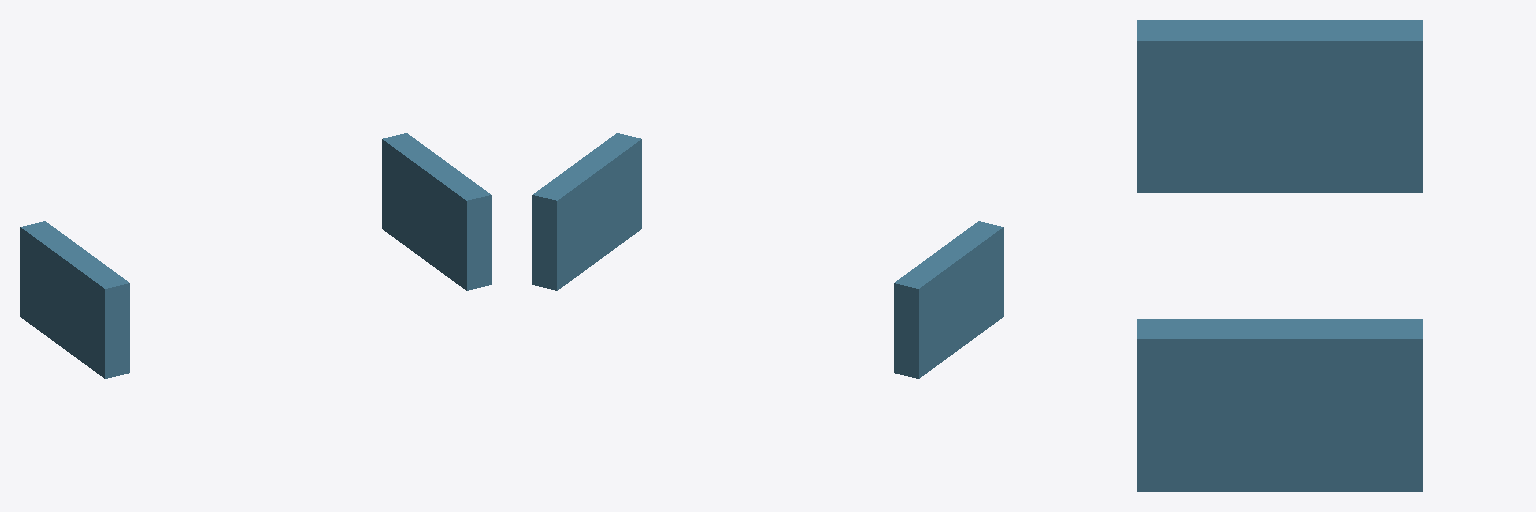
The robot description file, URDF, robot "ur5_robotiq_85":
<?xml version="1.0" ?>
<!-- =================================================================================== -->
<!-- |    This document was autogenerated by xacro from sisbot.xacro                   | -->
<!-- |    EDITING THIS FILE BY HAND IS NOT RECOMMENDED                                 | -->
<!-- =================================================================================== -->
<robot name="ur5_robotiq_85" xmlns:xacro="http://ros.org/wiki/xacro">
  <!--################################################
  ########              arm                    #######
  ####################################################-->

  <link name="base_link">
    <visual>
      <geometry>
        <mesh filename="../meshes/ur5/visual/base.obj"/>
      </geometry>
      <material name="LightGrey">
        <color rgba="0.7 0.7 0.7 1.0"/>
      </material>
    </visual>
    <collision>
      <geometry>
        <mesh filename="../meshes/ur5/collision/base.stl"/>
      </geometry>
    </collision>
    <inertial>
      <mass value="4.0"/>
      <origin rpy="0 0 0" xyz="0.0 0.0 0.0"/>
      <inertia ixx="0.00443333156" ixy="0.0" ixz="0.0" iyy="0.00443333156" iyz="0.0" izz="0.0072"/>
    </inertial>
  </link>

  <joint name="shoulder_pan_joint" type="revolute">
    <parent link="base_link"/>
    <child link="shoulder_link"/>
    <origin rpy="0.0 0.0 0.0" xyz="0.0 0.0 0.089159"/>
    <axis xyz="0 0 1"/>
    <limit effort="150.0" lower="-3.14159265359" upper="3.14159265359" velocity="3.15"/>
    <dynamics damping="0.0" friction="0.0"/>
  </joint>
  <link name="shoulder_link">
    <visual>
      <geometry>
        <mesh filename="../meshes/ur5/visual/shoulder.obj"/>
      </geometry>
      <material name="UR-Blue">
        <color rgba="0.376 0.576 0.674 1.0"/>
      </material>
    </visual>
    <collision>
      <geometry>
        <mesh filename="../meshes/ur5/collision/shoulder.stl"/>
      </geometry>
    </collision>
    <inertial>
      <mass value="3.7"/>
      <origin rpy="0 0 0" xyz="0.0 0.0 0.0"/>
      <inertia ixx="0.010267495893" ixy="0.0" ixz="0.0" iyy="0.010267495893" iyz="0.0" izz="0.00666"/>
    </inertial>
  </link>
  <joint name="shoulder_lift_joint" type="revolute">
    <parent link="shoulder_link"/>
    <child link="upper_arm_link"/>
    <origin rpy="0.0 1.57079632679 0.0" xyz="0.0 0.13585 0.0"/>
    <axis xyz="0 1 0"/>
    <limit effort="150.0" lower="-3.14159265359" upper="3.14159265359" velocity="3.15"/>
    <dynamics damping="0.0" friction="0.0"/>
  </joint>
  <link name="upper_arm_link">
    <visual>
      <geometry>
        <mesh filename="../meshes/ur5/visual/upperarm.obj"/>
      </geometry>
      <material name="LightGrey">
        <color rgba="0.7 0.7 0.7 1.0"/>
      </material>
    </visual>
    <collision>
      <geometry>
        <mesh filename="../meshes/ur5/collision/upperarm.stl"/>
      </geometry>
    </collision>
    <inertial>
      <mass value="8.393"/>
      <origin rpy="0 0 0" xyz="0.0 0.0 0.28"/>
      <inertia ixx="0.22689067591" ixy="0.0" ixz="0.0" iyy="0.22689067591" iyz="0.0" izz="0.0151074"/>
    </inertial>
  </link>
  <joint name="elbow_joint" type="revolute">
    <parent link="upper_arm_link"/>
    <child link="forearm_link"/>
    <origin rpy="0.0 0.0 0.0" xyz="0.0 -0.1197 0.425"/>
    <axis xyz="0 1 0"/>
    <limit effort="150.0" lower="-3.14159265359" upper="3.14159265359" velocity="3.15"/>
    <dynamics damping="0.0" friction="0.0"/>
  </joint>
  <link name="forearm_link">
    <visual>
      <geometry>
        <mesh filename="../meshes/ur5/visual/forearm.obj"/>
      </geometry>
      <material name="LightGrey">
        <color rgba="0.7 0.7 0.7 1.0"/>
      </material>
    </visual>
    <collision>
      <geometry>
        <mesh filename="../meshes/ur5/collision/forearm.stl"/>
      </geometry>
    </collision>
    <inertial>
      <mass value="2.275"/>
      <origin rpy="0 0 0" xyz="0.0 0.0 0.25"/>
      <inertia ixx="0.049443313556" ixy="0.0" ixz="0.0" iyy="0.049443313556" iyz="0.0" izz="0.004095"/>
    </inertial>
  </link>
  <joint name="wrist_1_joint" type="revolute">
    <parent link="forearm_link"/>
    <child link="wrist_1_link"/>
    <origin rpy="0.0 1.57079632679 0.0" xyz="0.0 0.0 0.39225"/>
    <axis xyz="0 1 0"/>
    <limit effort="28.0" lower="-3.14159265359" upper="3.14159265359" velocity="3.2"/>
    <dynamics damping="0.0" friction="0.0"/>
  </joint>
  <link name="wrist_1_link">
    <visual>
      <geometry>
        <mesh filename="../meshes/ur5/visual/wrist1.obj"/>
      </geometry>
      <material name="UR-Blue">
        <color rgba="0.376 0.576 0.674 1.0"/>
      </material>
    </visual>
    <collision>
      <geometry>
        <mesh filename="../meshes/ur5/collision/wrist1.stl"/>
      </geometry>
    </collision>
    <inertial>
      <mass value="1.219"/>
      <origin rpy="0 0 0" xyz="0.0 0.0 0.0"/>
      <inertia ixx="0.111172755531" ixy="0.0" ixz="0.0" iyy="0.111172755531" iyz="0.0" izz="0.21942"/>
    </inertial>
  </link>
  <joint name="wrist_2_joint" type="revolute">
    <parent link="wrist_1_link"/>
    <child link="wrist_2_link"/>
    <origin rpy="0.0 0.0 0.0" xyz="0.0 0.093 0.0"/>
    <axis xyz="0 0 1"/>
    <limit effort="28.0" lower="-3.14159265359" upper="3.14159265359" velocity="3.2"/>
    <dynamics damping="0.0" friction="0.0"/>
  </joint>
  <link name="wrist_2_link">
    <visual>
      <geometry>
        <mesh filename="../meshes/ur5/visual/wrist2.obj"/>
      </geometry>
      <material name="DarkGray">
        <color rgba="0.5 0.5 0.5 1.0"/>
      </material>
    </visual>
    <collision>
      <geometry>
        <mesh filename="../meshes/ur5/collision/wrist2.stl"/>
      </geometry>
    </collision>
    <inertial>
      <mass value="1.219"/>
      <origin rpy="0 0 0" xyz="0.0 0.0 0.0"/>
      <inertia ixx="0.111172755531" ixy="0.0" ixz="0.0" iyy="0.111172755531" iyz="0.0" izz="0.21942"/>
    </inertial>
  </link>
  <joint name="wrist_3_joint" type="revolute">
    <parent link="wrist_2_link"/>
    <child link="wrist_3_link"/>
    <origin rpy="0.0 0.0 0.0" xyz="0.0 0.0 0.09465"/>
    <axis xyz="0 1 0"/>
    <limit effort="28.0" lower="-3.14159265359" upper="3.14159265359" velocity="3.2"/>
    <dynamics damping="0.0" friction="0.0"/>
  </joint>
  <link name="wrist_3_link">
    <visual>
      <geometry>
        <mesh filename="../meshes/ur5/visual/wrist3.obj"/>
      </geometry>
      <material name="LightGrey">
        <color rgba="0.7 0.7 0.7 1.0"/>
      </material>
    </visual>
    <collision>
      <geometry>
        <mesh filename="../meshes/ur5/collision/wrist3.stl"/>
      </geometry>
    </collision>
    <inertial>
      <mass value="0.1879"/>
      <origin rpy="0 0 0" xyz="0.0 0.0 0.0"/>
      <inertia ixx="0.0171364731454" ixy="0.0" ixz="0.0" iyy="0.0171364731454" iyz="0.0" izz="0.033822"/>
    </inertial>
  </link>
  <joint name="ee_fixed_joint" type="fixed">
    <parent link="wrist_3_link"/>
    <child link="ee_link"/>
    <origin rpy="0.0 0.0 1.57079632679" xyz="0.0 0.0823 0.0"/>
  </joint>
  <link name="ee_link">
    <collision>
      <geometry>
        <box size="0.01 0.01 0.01"/>
      </geometry>
      <origin rpy="0 0 0" xyz="-0.01 0 0"/>
    </collision>
  </link>

  <!--################################################
  ########              gripper                  #####
  ####################################################-->

  <link name="robotiq_arg2f_base_link">
    <inertial>
      <origin rpy="0 0 0" xyz="8.625E-08 -4.6583E-06 0.03145"/>
      <mass value="0.22652"/>
      <inertia ixx="0.00020005" ixy="-4.2442E-10" ixz="-2.9069E-10" iyy="0.00017832" iyz="-3.4402E-08" izz="0.00013478"/>
    </inertial>
    <visual>
      <origin rpy="0 0 0" xyz="0 0 0"/>
      <geometry>
        <mesh filename="../meshes/robotiq_85/visual/robotiq_arg2f_85_base_link.dae" scale="0.001 0.001 0.001"/>
      </geometry>
      <material name="LightGrey">
        <color rgba="0.7 0.7 0.7 1.0"/>
      </material>
    </visual>
    <collision>
      <origin rpy="0 0 0" xyz="0 0 0"/>
      <geometry>
        <mesh filename="../meshes/robotiq_85/collision/robotiq_arg2f_base_link.stl"/>
      </geometry>
    </collision>
  </link>
  <joint name="finger_joint" type="revolute">
    <origin rpy="0 0 3.14159265359" xyz="0 -0.0306011 0.054904"/>
    <parent link="robotiq_arg2f_base_link"/>
    <child link="left_outer_knuckle"/>
    <axis xyz="1 0 0"/>
    <limit effort="1000" lower="0" upper="0.8" velocity="2.0"/>
  </joint>
  <link name="left_outer_knuckle">
    <inertial>
        <origin xyz="-0.000200000000003065 0.0199435877845359 0.0292245259211331" rpy="0 0 0" />
        <mass value="0.00853198276973456" />
        <inertia ixx="2.89328108496468E-06" ixy="-1.57935047237397E-19" ixz="-1.93980378593255E-19" iyy="1.86719750325683E-06" iyz="-1.21858577871576E-06" izz="1.21905238907251E-06" />
        </inertial>
    <visual>
      <origin rpy="0 0 0" xyz="0 0 0"/>
      <geometry>
        <mesh filename="../meshes/robotiq_85/visual/robotiq_arg2f_85_outer_knuckle.dae" scale="0.001 0.001 0.001"/>
      </geometry>
      <material name="">
        <color rgba="1 1 0 1"/>
      </material>
    </visual>
    <collision>
      <origin rpy="0 0 0" xyz="0 0 0"/>
      <geometry>
        <mesh filename="../meshes/robotiq_85/collision/robotiq_arg2f_85_outer_knuckle.dae" scale="0.001 0.001 0.001"/>
      </geometry>
    </collision>
  </link>
  <joint name="left_outer_finger_joint" type="fixed">
    <origin rpy="0 0 0" xyz="0 0.0315 -0.0041"/>
    <parent link="left_outer_knuckle"/>
    <child link="left_outer_finger"/>
    <axis xyz="1 0 0"/>
  </joint>
  <link name="left_outer_finger">
    <inertial>
        <origin xyz="0.00030115855001899 0.0373907951953854 -0.0208027427000385" rpy="0 0 0" />
        <mass value="0.022614240507152" />
        <inertia ixx="1.52518312458174E-05" ixy="9.76583423954399E-10" ixz="-5.43838577022588E-10" iyy="6.17694243867776E-06" iyz="6.78636130740228E-06" izz="1.16494917907219E-05" />
        </inertial>
    <visual>
      <origin rpy="0 0 0" xyz="0 0 0"/>
      <geometry>
        <mesh filename="../meshes/robotiq_85/visual/robotiq_arg2f_85_outer_finger.dae" scale="0.001 0.001 0.001"/>
      </geometry>
      <material name="LightGrey">
        <color rgba="0 1 1 1.0"/>
      </material>
    </visual>
    <collision>
      <origin rpy="0 0 0" xyz="0 0 0"/>
      <geometry>
        <mesh filename="../meshes/robotiq_85/collision/robotiq_arg2f_85_outer_finger.dae" scale="0.001 0.001 0.001"/>
      </geometry>
    </collision>
  </link>
  <joint name="left_inner_finger_joint" type="revolute">
    <origin rpy="0 0 0" xyz="0 0.0061 0.0471"/>
    <parent link="left_outer_finger"/>
    <child link="left_inner_finger"/>
    <axis xyz="1 0 0"/>
    <limit effort="1000" lower="-0.8757" upper="0" velocity="2.0"/>
    <mimic joint="finger_joint" multiplier="-1" offset="0"/>
  </joint>
  <link name="left_inner_finger">
    <inertial>
        <origin xyz="0.000299999999999317 0.0160078233491243 -0.0136945669206257" rpy="0 0 0" />
        <mass value="0.0104003125914103" />
        <inertia ixx="2.71909453810972E-06" ixy="1.35402465472579E-21" ixz="-7.1817349065269E-22" iyy="7.69100314106116E-07" iyz="6.74715432769696E-07" izz="2.30315190420171E-06" />
        </inertial>
    <visual>
      <origin rpy="0 0 0" xyz="0 0 0"/>
      <geometry>
        <mesh filename="../meshes/robotiq_85/visual/robotiq_arg2f_85_inner_finger.dae" scale="0.001 0.001 0.001"/>
      </geometry>
      <material name="LightGrey">
        <color rgba="1 0 1 1.0"/>
      </material>
    </visual>
    <collision>
      <origin rpy="0 0 0" xyz="0 0 0"/>
      <geometry>
        <mesh filename="../meshes/robotiq_85/collision/robotiq_arg2f_85_inner_finger.dae" scale="0.001 0.001 0.001"/>
      </geometry>
    </collision>
  </link>
  <joint name="left_inner_finger_pad_joint" type="fixed">
    <origin rpy="0 0 0" xyz="0 -0.0220203446692936 0.03242"/>
    <parent link="left_inner_finger"/>
    <child link="left_inner_finger_pad"/>
    <axis xyz="0 0 1"/>
  </joint>
  <link name="left_inner_finger_pad">
    <inertial>
      <mass value="1."/>
      <inertia ixx="1E-10" ixy="1E-10" ixz="1E-10" iyy="1E-10" iyz="1E-10" izz="1E-10"/>
    </inertial>
    <contact>
      <friction_anchor/>
      <stiffness value="30000.0"/>
      <damping value="1000.0"/>
      <spinning_friction value="0.1"/>
      <lateral_friction value="1.0"/>
    </contact>
    <visual>
      <origin rpy="0 0 0" xyz="0 0 0"/>
      <geometry>
        <box size="0.022 0.00635 0.0375"/>
      </geometry>
      <material name="UR-Blue">
        <color rgba="0.376 0.576 0.674 1.0"/>
      </material>
    </visual>
    <collision>
      <origin rpy="0 0 0" xyz="0 0 0"/>
      <geometry>
        <box size="0.022 0.00635 0.0375"/>
      </geometry>
      <material name="">
        <color rgba="0.9 0.0 0.0 1"/>
      </material>
    </collision>
  </link>
  <joint name="left_inner_knuckle_joint" type="revolute">
    <!-- <origin xyz="0 ${reflect * -0.0127} 0.06142" rpy="${pi / 2 + .725} 0 ${(reflect - 1) * pi / 2}" /> -->
    <origin rpy="0 0 3.14159265359" xyz="0 -0.0127 0.06142"/>
    <parent link="robotiq_arg2f_base_link"/>
    <child link="left_inner_knuckle"/>
    <axis xyz="1 0 0"/>
    <limit effort="1000" lower="0" upper="0.8757" velocity="2.0"/>
    <mimic joint="finger_joint" multiplier="1" offset="0"/>
  </joint>
  <link name="left_inner_knuckle">
    <inertial>
        <origin xyz="0.000123011831763771 0.0507850843201817 0.00103968640075166" rpy="0 0 0" />
       <mass value="0.0271177346495152" />
        <inertia ixx="2.61910379223783E-05" ixy="-2.43616858946494E-07" ixz="-6.37789906117123E-09" iyy="2.8270243746167E-06" iyz="-5.37200748039765E-07" izz="2.83695868220296E-05" />
        </inertial>
    <visual>
      <origin rpy="0 0 0" xyz="0 0 0"/>
      <geometry>
        <mesh filename="../meshes/robotiq_85/visual/robotiq_arg2f_85_inner_knuckle.dae" scale="0.001 0.001 0.001"/>
      </geometry>
      <material name="LightGrey">
        <color rgba="0 0 1 1.0"/>
      </material>
    </visual>
    <collision>
      <origin rpy="0 0 0" xyz="0 0 0"/>
      <geometry>
        <mesh filename="../meshes/robotiq_85/collision/robotiq_arg2f_85_inner_knuckle.dae" scale="0.001 0.001 0.001"/>
      </geometry>
    </collision>
  </link>
  <joint name="right_outer_knuckle_joint" type="revolute">
    <origin rpy="0 0 0" xyz="0 0.0306011 0.054904"/>
    <parent link="robotiq_arg2f_base_link"/>
    <child link="right_outer_knuckle"/>
    <axis xyz="1 0 0"/>
    <limit effort="1000" lower="0" upper="0.81" velocity="2.0"/>
    <mimic joint="finger_joint" multiplier="1" offset="0"/>
  </joint>
  <link name="right_outer_knuckle">
    <inertial>
        <origin xyz="-0.000200000000003065 0.0199435877845359 0.0292245259211331" rpy="0 0 0" />
        <mass value="0.00853198276973456" />
        <inertia ixx="2.89328108496468E-06" ixy="-1.57935047237397E-19" ixz="-1.93980378593255E-19" iyy="1.86719750325683E-06" iyz="-1.21858577871576E-06" izz="1.21905238907251E-06" />
        </inertial>
    <visual>
      <origin rpy="0 0 0" xyz="0 0 0"/>
      <geometry>
        <mesh filename="../meshes/robotiq_85/visual/robotiq_arg2f_85_outer_knuckle.dae" scale="0.001 0.001 0.001"/>
      </geometry>
      <material name="">
        <color rgba="0.792156862745098 0.819607843137255 0.933333333333333 1"/>
      </material>
    </visual>
    <collision>
      <origin rpy="0 0 0" xyz="0 0 0"/>
      <geometry>
        <mesh filename="../meshes/robotiq_85/collision/robotiq_arg2f_85_outer_knuckle.dae" scale="0.001 0.001 0.001"/>
      </geometry>
    </collision>
  </link>
  <joint name="right_outer_finger_joint" type="fixed">
    <origin rpy="0 0 0" xyz="0 0.0315 -0.0041"/>
    <parent link="right_outer_knuckle"/>
    <child link="right_outer_finger"/>
    <axis xyz="1 0 0"/>
  </joint>
  <link name="right_outer_finger">
    <inertial>
        <origin xyz="0.00030115855001899 0.0373907951953854 -0.0208027427000385" rpy="0 0 0" />
        <mass value="0.022614240507152" />
        <inertia ixx="1.52518312458174E-05" ixy="9.76583423954399E-10" ixz="-5.43838577022588E-10" iyy="6.17694243867776E-06" iyz="6.78636130740228E-06" izz="1.16494917907219E-05" />
        </inertial>
    <visual>
      <origin rpy="0 0 0" xyz="0 0 0"/>
      <geometry>
        <mesh filename="../meshes/robotiq_85/visual/robotiq_arg2f_85_outer_finger.dae" scale="0.001 0.001 0.001"/>
      </geometry>
      <material name="LightGrey">
        <color rgba="0.7 0.7 0.7 1.0"/>
      </material>
    </visual>
    <collision>
      <origin rpy="0 0 0" xyz="0 0 0"/>
      <geometry>
        <mesh filename="../meshes/robotiq_85/collision/robotiq_arg2f_85_outer_finger.dae" scale="0.001 0.001 0.001"/>
      </geometry>
    </collision>
  </link>
  <joint name="right_inner_finger_joint" type="revolute">
    <origin rpy="0 0 0" xyz="0 0.0061 0.0471"/>
    <parent link="right_outer_finger"/>
    <child link="right_inner_finger"/>
    <axis xyz="1 0 0"/>
    <limit effort="1000" lower="-0.8757" upper="0" velocity="2.0"/>
    <mimic joint="finger_joint" multiplier="-1" offset="0"/>
  </joint>
  <link name="right_inner_finger">
    <inertial>
        <origin xyz="0.000299999999999317 0.0160078233491243 -0.0136945669206257" rpy="0 0 0" />
        <mass value="0.0104003125914103" />
        <inertia ixx="2.71909453810972E-06" ixy="1.35402465472579E-21" ixz="-7.1817349065269E-22" iyy="7.69100314106116E-07" iyz="6.74715432769696E-07" izz="2.30315190420171E-06" />
        </inertial>
    <visual>
      <origin rpy="0 0 0" xyz="0 0 0"/>
      <geometry>
        <mesh filename="../meshes/robotiq_85/visual/robotiq_arg2f_85_inner_finger.dae" scale="0.001 0.001 0.001"/>
      </geometry>
      <material name="">
        <color rgba="0.1 0.1 0.1 1"/>
      </material>
    </visual>
    <collision>
      <origin rpy="0 0 0" xyz="0 0 0"/>
      <geometry>
        <mesh filename="../meshes/robotiq_85/collision/robotiq_arg2f_85_inner_finger.dae" scale="0.001 0.001 0.001"/>
      </geometry>
    </collision>
  </link>
  <joint name="right_inner_finger_pad_joint" type="fixed">
    <origin rpy="0 0 0" xyz="0 -0.0220203446692936 0.03242"/>
    <parent link="right_inner_finger"/>
    <child link="right_inner_finger_pad"/>
    <axis xyz="0 0 1"/>
  </joint>
  <link name="right_inner_finger_pad">
    <inertial>
      <mass value="1"/>
      <inertia ixx="1E-10" ixy="1E-10" ixz="1E-10" iyy="1E-10" iyz="1E-10" izz="1E-10"/>
    </inertial>
    <contact>
      <friction_anchor/>
      <stiffness value="30000.0"/>
      <damping value="1000.0"/>
      <spinning_friction value="0.1"/>
      <lateral_friction value="1.0"/>
    </contact>
    <visual>
      <origin rpy="0 0 0" xyz="0 0 0"/>
      <geometry>
        <box size="0.022 0.00635 0.0375"/>
      </geometry>
      <material name="UR-Blue">
        <color rgba="0.376 0.576 0.674 1.0"/>
      </material>
    </visual>
    <collision>
      <origin rpy="0 0 0" xyz="0 0 0"/>
      <geometry>
        <box size="0.022 0.00635 0.0375"/>
      </geometry>
      <material name="LightGrey">
        <color rgba="0.7 0.7 0.7 1.0"/>
      </material>
    </collision>
  </link>
  <joint name="right_inner_knuckle_joint" type="revolute">
    <!-- <origin xyz="0 ${reflect * -0.0127} 0.06142" rpy="${pi / 2 + .725} 0 ${(reflect - 1) * pi / 2}" /> -->
    <origin rpy="0 0 0.0" xyz="0 0.0127 0.06142"/>
    <parent link="robotiq_arg2f_base_link"/>
    <child link="right_inner_knuckle"/>
    <axis xyz="1 0 0"/>
    <limit effort="1000" lower="0" upper="0.8757" velocity="2.0"/>
    <mimic joint="finger_joint" multiplier="1" offset="0"/>
  </joint>
  <link name="right_inner_knuckle">
    <inertial>
        <origin xyz="0.000123011831763771 0.0507850843201817 0.00103968640075166" rpy="0 0 0" />
       <mass value="0.0271177346495152" />
        <inertia ixx="2.61910379223783E-05" ixy="-2.43616858946494E-07" ixz="-6.37789906117123E-09" iyy="2.8270243746167E-06" iyz="-5.37200748039765E-07" izz="2.83695868220296E-05" />
        </inertial>
    <visual>
      <origin rpy="0 0 0" xyz="0 0 0"/>
      <geometry>
        <mesh filename="../meshes/robotiq_85/visual/robotiq_arg2f_85_inner_knuckle.dae" scale="0.001 0.001 0.001"/>
      </geometry>
      <material name="LightGrey">
        <color rgba="0.7 0.7 0.7 1.0"/>
      </material>
    </visual>
    <collision>
      <origin rpy="0 0 0" xyz="0 0 0"/>
      <geometry>
        <mesh filename="../meshes/robotiq_85/collision/robotiq_arg2f_85_inner_knuckle.dae" scale="0.001 0.001 0.001"/>
      </geometry>
    </collision>
  </link>

<!--################################################
  ########          connect model                #####
  ####################################################-->

  <link name="world"/>
  <!-- connect gripper to arm -->
  <joint name="robotiq_85_base_joint" type="fixed">
    <parent link="ee_link"/>
    <child link="robotiq_arg2f_base_link"/>
    <origin rpy="0 1.57079632679 0" xyz="0 0 0"/>
  </joint>

<!--  <joint name="arm_gripper_joint" type="fixed">-->
<!--    <parent link="ee_link"/>-->
<!--    <child link="robotiq_140_robotiq_arg2f_base_link"/>-->
<!--    <origin rpy="-1.57 1.57 -1.57" xyz="0.0 0.0 0.0"/>-->
<!--  </joint>-->

  <!-- connect arm to world -->
  <joint name="world_arm_joint" type="fixed">
    <parent link="world"/>
    <child link="base_link"/>
    <origin rpy="0.0 0.0 0" xyz="0 0 0"/>
  </joint>


</robot>

--- What the picture shows (computed from the rendered views, not written in the file) ---
The picture shows the robot from 3 angles, left to right: view 1: azimuth 30°, elevation 25°; view 2: azimuth 150°, elevation 25°; view 3: azimuth 270°, elevation 25°; orthographic projection.
Model ur5_robotiq_85 with 20 links and 19 joints (12 revolute, 7 fixed), rooted at world, posed all joints at 0.
Visible links, largest first — view 1: left_inner_finger_pad, right_inner_finger_pad; view 2: left_inner_finger_pad, right_inner_finger_pad; view 3: left_inner_finger_pad, right_inner_finger_pad.
Boxes of the visible links, x1=… form: left_inner_finger_pad: x1=20, y1=221, x2=129, y2=378; right_inner_finger_pad: x1=382, y1=133, x2=491, y2=290; left_inner_finger_pad: x1=894, y1=221, x2=1003, y2=378; right_inner_finger_pad: x1=532, y1=133, x2=641, y2=290; left_inner_finger_pad: x1=1137, y1=20, x2=1422, y2=192; right_inner_finger_pad: x1=1137, y1=319, x2=1422, y2=491.
Bounding box of the posed robot: 0.0987 × 0.0375 × 0.022 m (x, y, z).
0 mesh visuals loaded from 12 distinct referenced files (none loaded); not drawn: 16 (reference not matched to a file when rendering).